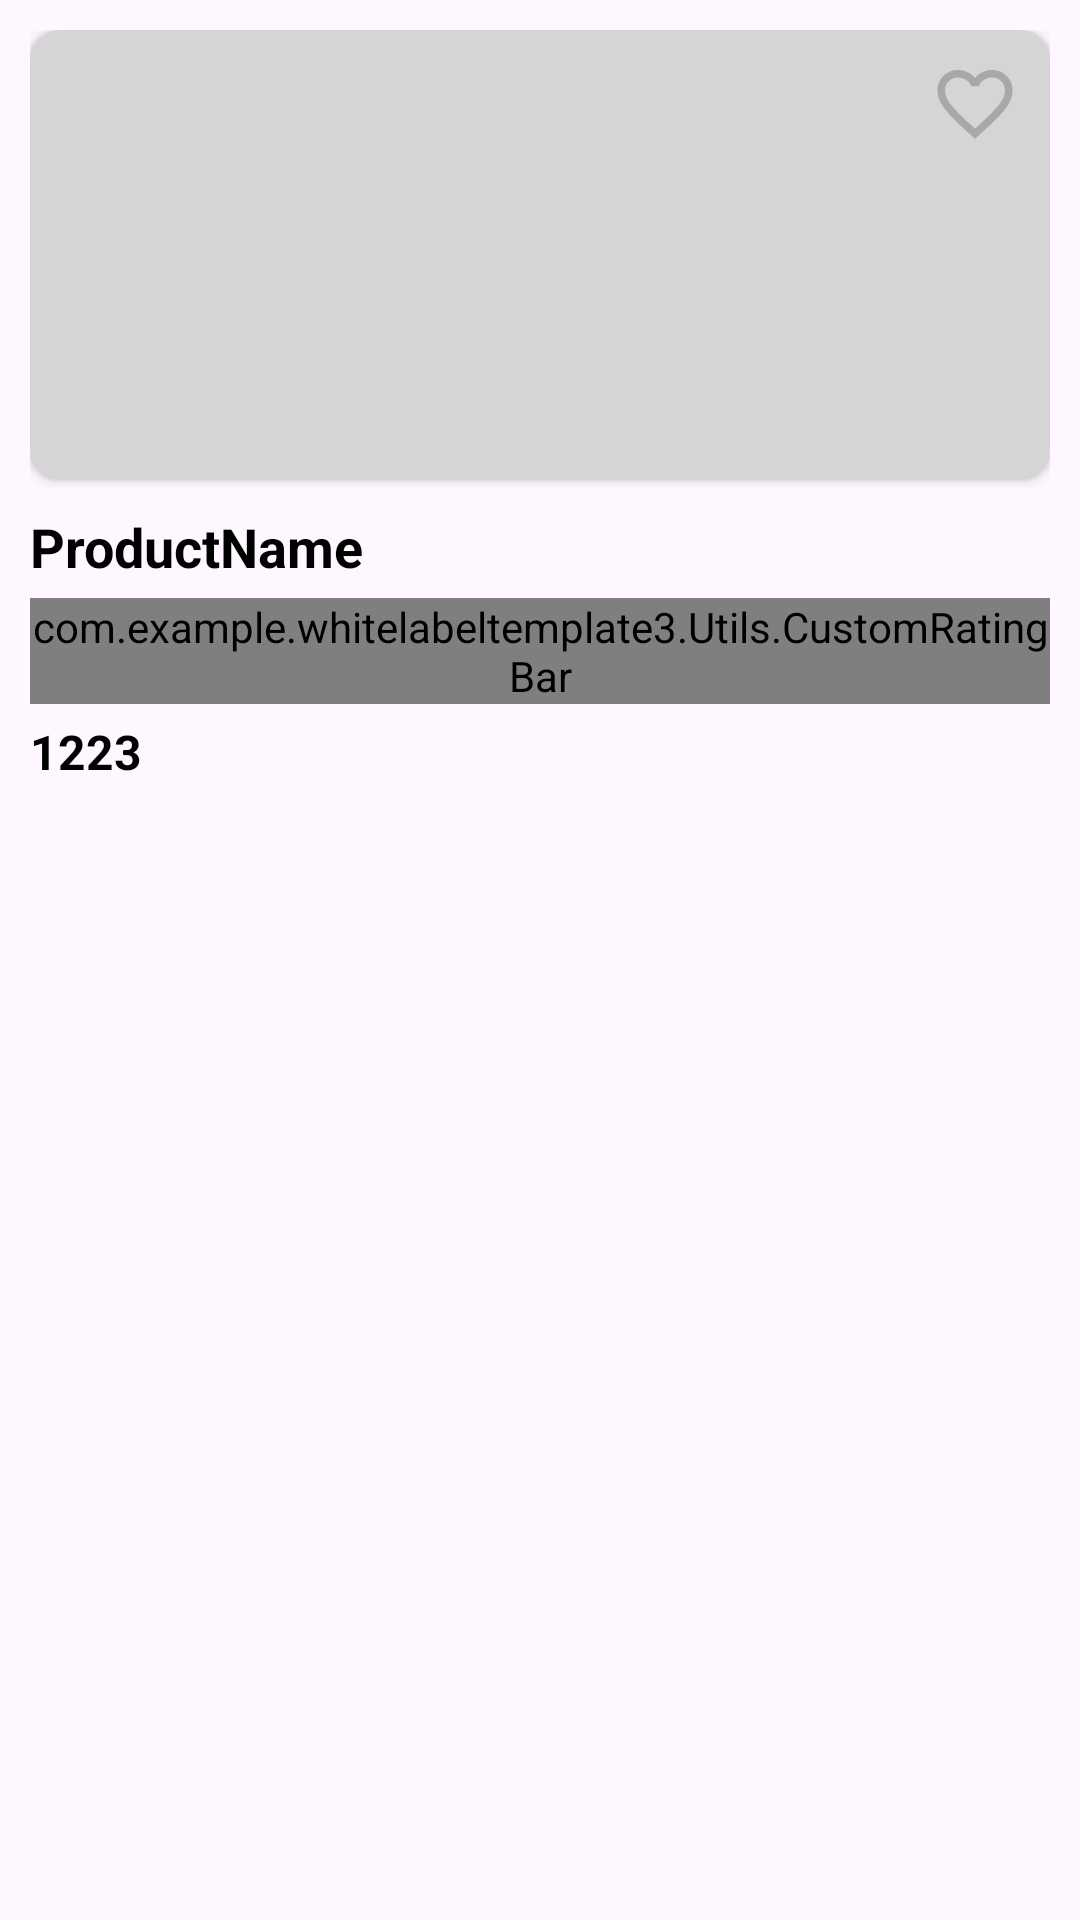

Locate icon controls on the screen. Image size 1080x1920, boxes as (x1, y1, x2, y2).
heart: (938, 70, 1012, 138)
